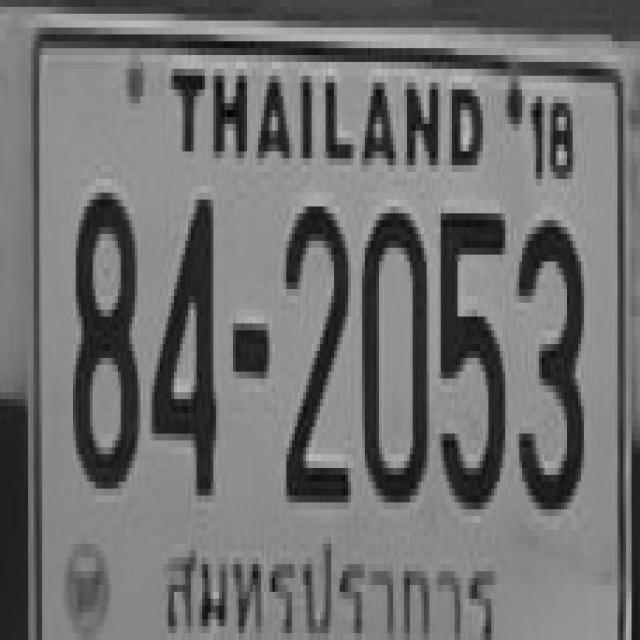0: (354, 184, 437, 524)
2: (278, 192, 362, 530)
3: (516, 170, 590, 550)
4: (140, 175, 230, 522)
5: (434, 186, 512, 529)
8: (61, 114, 150, 559)
SamutPrakan: (154, 512, 514, 640)
